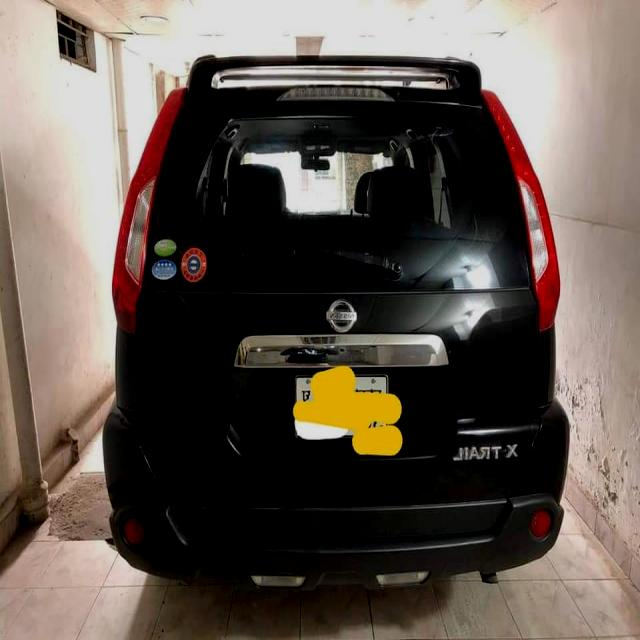black: (99, 49, 577, 576)
